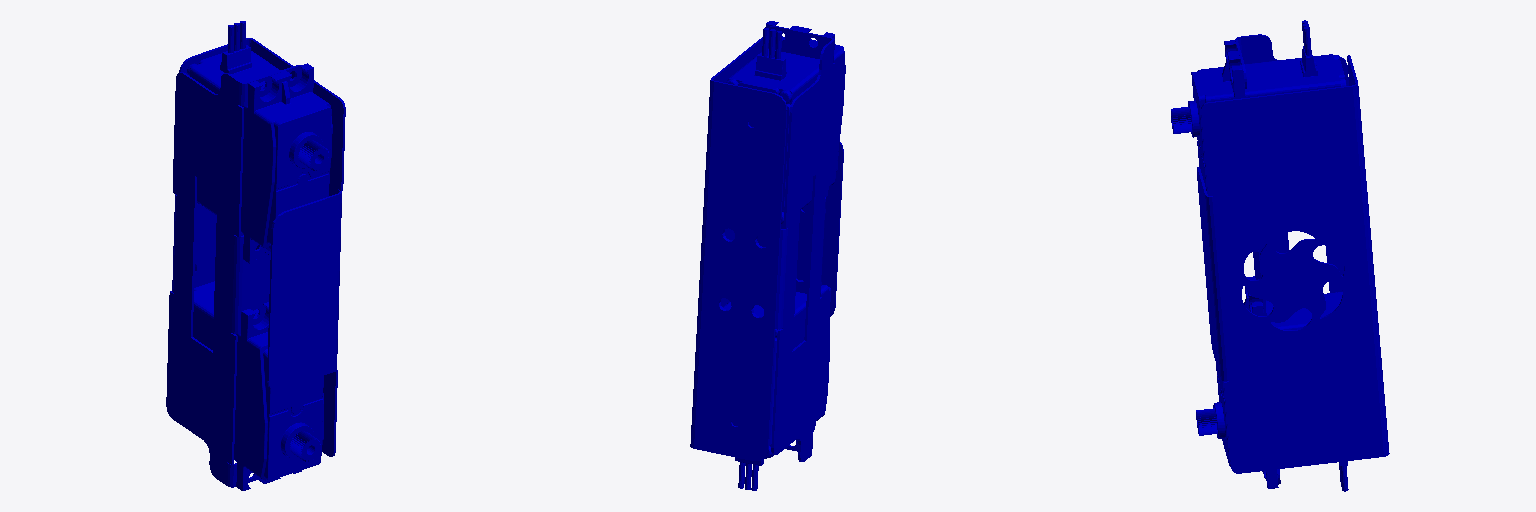
The robot description file, URDF, robot "robotic_arm":
<?xml version="1.0" encoding="utf-8"?>
<robot name="robotic_arm">

  <!-- Material Definitions -->
  <material name="blue">
    <color rgba="0.0 0.0 0.8 1"/>
  </material>
  <material name="silver">
    <color rgba="0.75 0.75 0.75 1"/>
  </material>

  <!-- World Link -->
  <link name="world"/>

  <!-- Base Joint -->
  <joint name="world_to_base" type="fixed">
    <parent link="world"/>
    <child link="base_link"/>
    <origin xyz="0 0 0" rpy="1.5 1.5 1.5"/>
  </joint>

  <!-- Base Link -->
  <link name="base_link">
    <inertial>
      <origin xyz="-0.035398 -0.0004353 0.027453" rpy="0 0 0"/>
      <mass value="0.39671"/>
      <inertia
        ixx="0.00092742"
        ixy="-4.6465E-07"
        ixz="3.0759E-08"
        iyy="0.00057216"
        iyz="1.5079E-07"
        izz="0.00037377"/>
    </inertial>
    <visual>
      <origin xyz="0 0 0" rpy="0 0 0"/>
      <geometry>
        <mesh filename="package://arm_description/meshes/base_link.STL"/>
      </geometry>
      <material name="blue"/>
    </visual>
    <collision>
      <origin xyz="0 0 0" rpy="0 0 0"/>
      <geometry>
        <mesh filename="package://arm_description/meshes/base_link.STL"/>
      </geometry>
    </collision>
  </link>

  <!-- Rotating Base Link -->
  <link name="rotating_base_link">
    <inertial>
      <origin xyz="0.000158275887253499 0.027492254844178 -0.00611871263232042" rpy="0 0 0"/>
      <mass value="0.0561612792514196"/>
      <inertia
        ixx="9.9128401791064E-06"
        ixy="2.12663345089064E-11"
        ixz="3.39707661438049E-08"
        iyy="1.76973775421821E-05"
        iyz="4.60310716010097E-07"
        izz="1.32217491388007E-05"/>
    </inertial>
    <visual>
      <origin xyz="0 0 0" rpy="0 0 0"/>
      <geometry>
        <mesh filename="package://arm_description/meshes/rotating_base_link.STL"/>
      </geometry>
      <material name="blue"/>
    </visual>
    <collision>
      <origin xyz="0 0 0" rpy="0 0 0"/>
      <geometry>
        <mesh filename="package://arm_description/meshes/rotating_base_link.STL"/>
      </geometry>
    </collision>
  </link>

  <!-- Rotating Base Joint -->
  <joint name="rotating_base_joint" type="revolute">
    <origin xyz="-0.0466999999999999 0 0" rpy="0 -1.52754450035515 1.5707963267949"/>
    <parent link="base_link"/>
    <child link="rotating_base_link"/>
    <axis xyz="0 1 0"/>
    <limit lower="-1.57" upper="1.220" effort="100" velocity="2"/>
  </joint>

  <!-- Shoulder Link -->
  <link name="shoulder_link">
    <inertial>
      <origin xyz="0.05 0.00141746277739371 -0.00395375026056261" rpy="0 0 0"/>
      <mass value="0.0422835365975949"/>
      <inertia
        ixx="2.5539223828081E-05"
        ixy="5.2304284492953E-20"
        ixz="5.09708693455176E-21"
        iyy="3.9772332084034E-05"
        iyz="-6.979081923206E-08"
        izz="5.89921114741114E-05"/>
    </inertial>
    <visual>
      <origin xyz="0 0 0" rpy="0 0 0"/>
      <geometry>
        <mesh filename="package://arm_description/meshes/shoulder_link.STL"/>
      </geometry>
      <material name="blue"/>
    </visual>
    <collision>
      <origin xyz="0 0 0" rpy="0 0 0"/>
      <geometry>
        <mesh filename="package://arm_description/meshes/shoulder_link.STL"/>
      </geometry>
    </collision>
  </link>

  <!-- Shoulder Joint -->
  <joint name="shoulder_joint" type="revolute">
    <origin xyz="-0.00949999999999954 0.0308700000000001 0" rpy="-1.5 0 1.5"/>
    <parent link="rotating_base_link"/>
    <child link="shoulder_link"/>
    <axis xyz="0 1 0"/>
    <limit lower="-1.308" upper="0.610" effort="100" velocity="2"/>
  </joint>

  <!-- Elbow Link -->
  <link name="elbow_link">
    <inertial>
      <origin xyz="-0.0450025328071686 -0.0042809747594438 -0.00130547754639812" rpy="0 0 0"/>
      <mass value="0.13493321141733"/>
      <inertia
        ixx="3.06279251143249E-05"
        ixy="1.20337731418417E-09"
        ixz="-1.91215180545226E-09"
        iyy="8.18401391205364E-05"
        iyz="1.06896103680731E-06"
        izz="0.000101277084508677"/>
    </inertial>
    <visual>
      <origin xyz="0 0 0" rpy="0 0 0"/>
      <geometry>
        <mesh filename="package://arm_description/meshes/elbow_link.STL"/>
      </geometry>
      <material name="blue"/>
    </visual>
    <collision>
      <origin xyz="0 0 0" rpy="0 0 0"/>
      <geometry>
        <mesh filename="package://arm_description/meshes/elbow_link.STL"/>
      </geometry>
    </collision>
  </link>

  <!-- Elbow Joint -->
  <joint name="elbow_joint" type="revolute">
    <origin xyz="0.1 0 0" rpy="0 0.080837952 3.14159265358978"/>
    <parent link="shoulder_link"/>
    <child link="elbow_link"/>
    <axis xyz="0 1 0"/>
    <limit lower="-1.57" upper="1.57" effort="100" velocity="2"/>
  </joint>

  <!-- Forearm Link -->
  <link name="forearm_link">
    <inertial>
      <origin xyz="0.0010832320248741 -0.047774444639081 -0.000231064174041173" rpy="0 0 0"/>
      <mass value="0.0447180559582269"/>
      <inertia
        ixx="1.67225851396217E-05"
        ixy="-1.16841164754521E-07"
        ixz="-2.11846893656155E-11"
        iyy="1.4108277215624E-05"
        iyz="-3.39709530009559E-08"
        izz="1.67748719855516E-05"/>
    </inertial>
    <visual>
      <origin xyz="0 0 0" rpy="0 0 0"/>
      <geometry>
        <mesh filename="package://arm_description/meshes/forearm_link.STL"/>
      </geometry>
      <material name="blue"/>
    </visual>
    <collision>
      <origin xyz="0 0 0" rpy="0 0 0"/>
      <geometry>
        <mesh filename="package://arm_description/meshes/forearm_link.STL"/>
      </geometry>
    </collision>
  </link>

  <!-- Forearm Joint -->
  <joint name="forearm_joint" type="revolute">
    <origin xyz="-0.0899999999999956 0 0" rpy="0.040178506 0 -1.57079632679489"/>
    <parent link="elbow_link"/>
    <child link="forearm_link"/>
    <axis xyz="1 0 0"/>
    <limit lower="-1.57" upper="1.57" effort="100" velocity="2"/>
  </joint>

  <!-- Wrist Link -->
  <link name="wrist_link">
    <inertial>
      <origin xyz="0.0190989125713327 0.00061469939040844 0.00252312799008259" rpy="0 0 0"/>
      <mass value="0.0529522848326195"/>
      <inertia
        ixx="1.10404885697885E-05"
        ixy="-1.53962728731698E-07"
        ixz="-9.76735867241465E-07"
        iyy="1.00687044394914E-05"
        iyz="-3.98653063319089E-07"
        izz="1.82604593599498E-05"/>
    </inertial>
    <visual>
      <origin xyz="0 0 0" rpy="0 0 0"/>
      <geometry>
        <mesh filename="package://arm_description/meshes/wrist_link.STL"/>
      </geometry>
      <material name="silver"/>
    </visual>
    <collision>
      <origin xyz="0 0 0" rpy="0 0 0"/>
      <geometry>
        <mesh filename="package://arm_description/meshes/wrist_link.STL"/>
      </geometry>
    </collision>
  </link>

  <!-- Wrist Joint -->
  <joint name="wrist_joint" type="revolute">
    <origin xyz="0.00099999999999714 -0.0795710619584145 -0.0097500000000017" rpy="-3.1124530411889 0 -1.5707963267949"/>
    <parent link="forearm_link"/>
    <child link="wrist_link"/>
    <axis xyz="1 0 0"/>
    <limit lower="-1.57" upper="1.57" effort="100" velocity="2"/>
  </joint>

  <!-- Gripper Left Link -->
  <link name="gripper_left_link">
    <inertial>
      <origin xyz="0.0484172860271485 -0.0241584658945902 0.0142380102355266" rpy="0 0 0"/>
      <mass value="0.0163529802377136"/>
      <inertia
        ixx="2.95937890453479E-06"
        ixy="1.60740985116118E-06"
        ixz="4.04413653565078E-09"
        iyy="2.27972601870315E-06"
        iyz="1.56748388623883E-12"
        izz="4.68843868201044E-06"/>
    </inertial>
    <visual>
      <origin xyz="0 0 0" rpy="0 0 0"/>
      <geometry>
        <mesh filename="package://arm_description/meshes/gripper_left_link.STL"/>
      </geometry>
      <material name="silver"/>
    </visual>
    <collision>
      <origin xyz="0 0 0" rpy="0 0 0"/>
      <geometry>
        <mesh filename="package://arm_description/meshes/gripper_left_link.STL"/>
      </geometry>
    </collision>
  </link>

  <!-- Gripper Left Joint -->
  <joint name="gripper_left_joint" type="revolute">
    <origin xyz="0.031104 0 0" rpy="0.023878 -0.042377 1.0575"/>
    <parent link="wrist_link"/>
    <child link="gripper_left_link"/>
    <axis xyz="0 0 1"/>
    <limit lower="-1.57" upper="1.57" effort="100" velocity="2"/>
    <mimic joint="gripper_right_joint" multiplier="1" offset="0"/>
  </joint>

  <!-- Gripper Right Link -->
  <link name="gripper_right_link">
    <inertial>
      <origin xyz="-0.0375860640609017 -0.0369591692006576 -0.0142262545696464" rpy="0 0 0"/>
      <mass value="0.016328263992727"/>
      <inertia
        ixx="1.31332905769687E-06"
        ixy="-9.9717065345883E-07"
        ixz="1.4036038701819E-09"
        iyy="3.92463290581539E-06"
        iyz="3.79932405367648E-09"
        izz="4.68749882724247E-06"/>
    </inertial>
    <visual>
      <origin xyz="0 0 0" rpy="0 0 0"/>
      <geometry>
        <mesh filename="package://arm_description/meshes/gripper_right_link.STL"/>
      </geometry>
      <material name="silver"/>
    </visual>
    <collision>
      <origin xyz="0 0 0" rpy="0 0 0"/>
      <geometry>
        <mesh filename="package://arm_description/meshes/gripper_right_link.STL"/>
      </geometry>
    </collision>
  </link>

  <!-- Gripper Right Joint -->
  <joint name="gripper_right_joint" type="revolute">
    <origin xyz="0.033035 0 0" rpy="3.0936 0.0076308 -2.9842"/>
    <parent link="wrist_link"/>
    <child link="gripper_right_link"/>
    <axis xyz="0 0 1"/>
    <limit lower="-1.57" upper="1.57" effort="100" velocity="2"/>
  </joint>




  <!-- ROS2 Control -->
  <ros2_control name="RobotControl" type="system">
    <hardware>
<plugin>mock_components/GenericSystem</plugin>
      <param name="state_following_offset">0.0</param>
    </hardware>

    <joint name="rotating_base_joint">
      <command_interface name="position">
        <param name="min">-1.57</param>
        <param name="max">1.220</param>
      </command_interface>
      <state_interface name="position"/>
      <state_interface name="velocity"/>
    </joint>

    <joint name="shoulder_joint">
      <command_interface name="position">
        <param name="min">-1.308</param>
        <param name="max">0.610</param>
      </command_interface>
      <state_interface name="position"/>
      <state_interface name="velocity"/>
    </joint>

    <joint name="elbow_joint">
      <command_interface name="position">
        <param name="min">-1.57</param>
        <param name="max">1.57</param>
      </command_interface>
      <state_interface name="position"/>
      <state_interface name="velocity"/>
    </joint>

    <joint name="forearm_joint">
      <command_interface name="position">
        <param name="min">-1.57</param>
        <param name="max">1.57</param>
      </command_interface>
      <state_interface name="position"/>
      <state_interface name="velocity"/>
    </joint>

    <joint name="wrist_joint">
      <command_interface name="position">
        <param name="min">-1.57</param>
        <param name="max">1.57</param>
      </command_interface>
      <state_interface name="position"/>
      <state_interface name="velocity"/>
    </joint>

    <!-- Gripper joints -->
    <joint name="gripper_right_joint">
      <command_interface name="position">
        <param name="min">-1.57</param>
        <param name="max">1.57</param>
      </command_interface>
      <state_interface name="position"/>
      <state_interface name="velocity"/>
    </joint>

    <!-- Optional: Keep gripper_left_joint if needed but not controlled -->
    <!-- <joint name="gripper_left_joint">
      <command_interface name="position">
        <param name="min">-1.57</param>
        <param name="max">1.57</param>
      </command_interface>
      <state_interface name="position"/>
      <state_interface name="velocity"/>
    </joint> -->
  </ros2_control>
</robot>

--- Render facts (derived) ---
3 views of the same robot in one strip: view 1: azimuth 30°, elevation 25°; view 2: azimuth 150°, elevation 25°; view 3: azimuth 270°, elevation 25° (orthographic).
Model robotic_arm with 9 links and 8 joints (7 revolute, 1 fixed), rooted at world, posed every joint at zero.
Links seen in each view (by area): view 1: elbow_link; view 2: elbow_link; view 3: elbow_link.
Boxes of the visible links, x1=… form: elbow_link: x1=166, y1=21, x2=345, y2=490; elbow_link: x1=690, y1=21, x2=845, y2=490; elbow_link: x1=1171, y1=20, x2=1389, y2=491.
Bounding box of the posed robot: 0.0316 × 0.0594 × 0.1378 m (x, y, z).
Meshes: 8 distinct files referenced, 1 mesh visuals loaded (1 binary STL); not drawn: 7 (file found but could not be loaded).